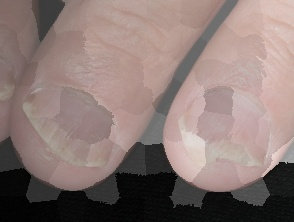Nail_psoriasis: (5, 51, 147, 196), (166, 66, 288, 188), (0, 35, 21, 110)
